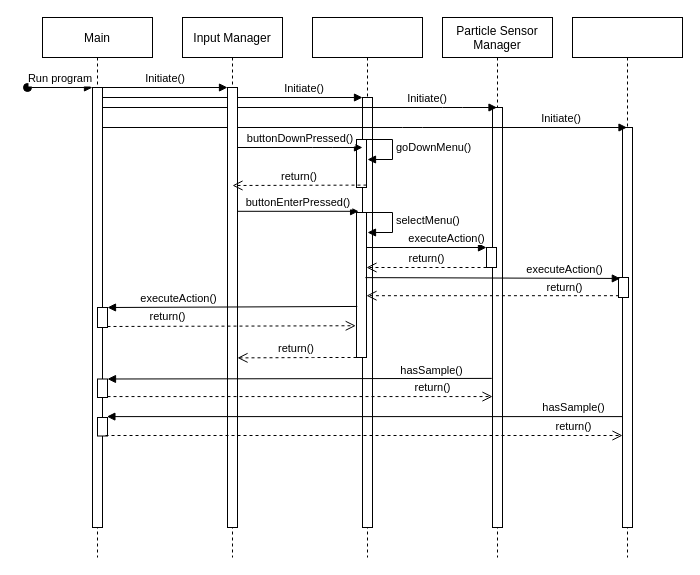
Image size: 700x575. Some labels were removed from this diagram. Each missing label, with the box of its shape:
GPS Manager: (572, 16, 682, 558)
Screen Display: (312, 16, 422, 558)
